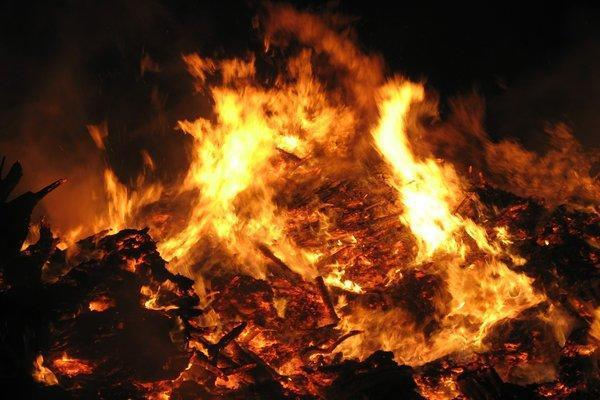fire: (19, 3, 589, 395)
